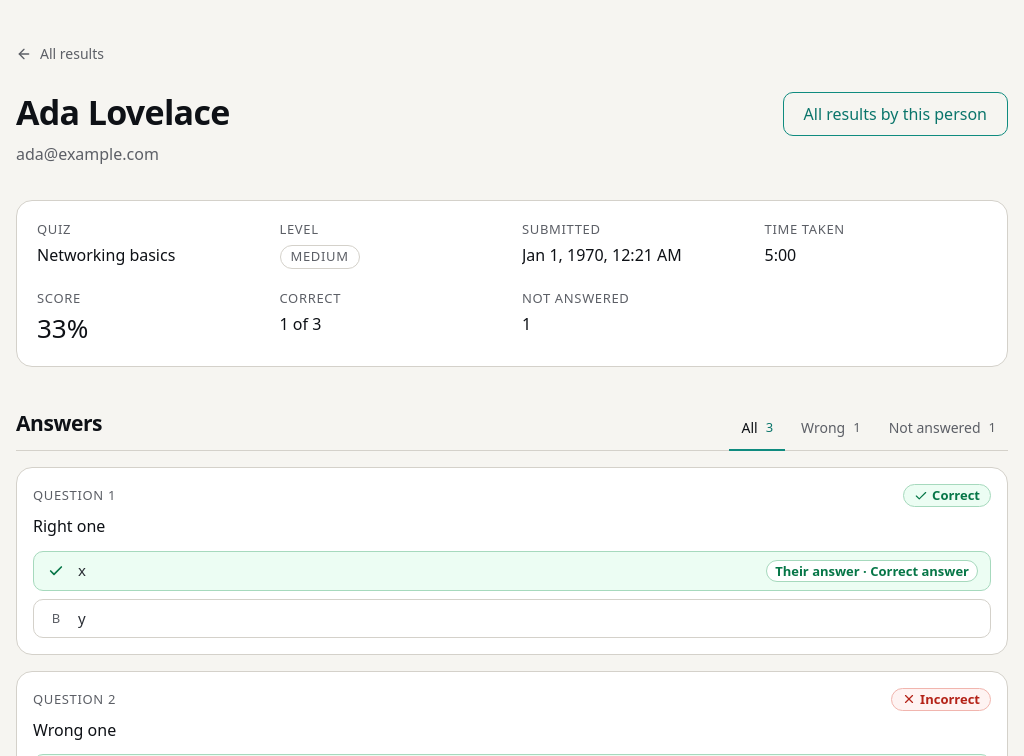
Test: Admin attempt detail › filters to the wrong and the skipped questions
Click the button "Wrong 1" at (831, 429), box [789,407,873,451]
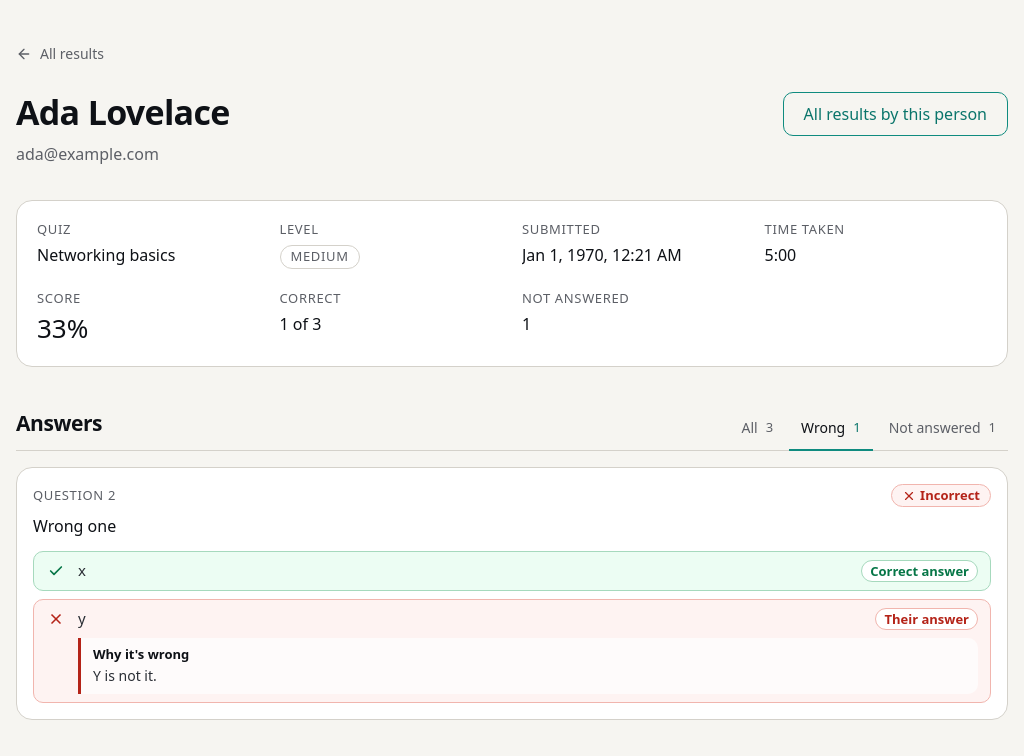
Expected: the text "Wrong one" is shown, [33,515,116,537]
Now the text "Right one" is gone
Click the button "Not answered 1" at (942, 429), box [877,407,1008,451]
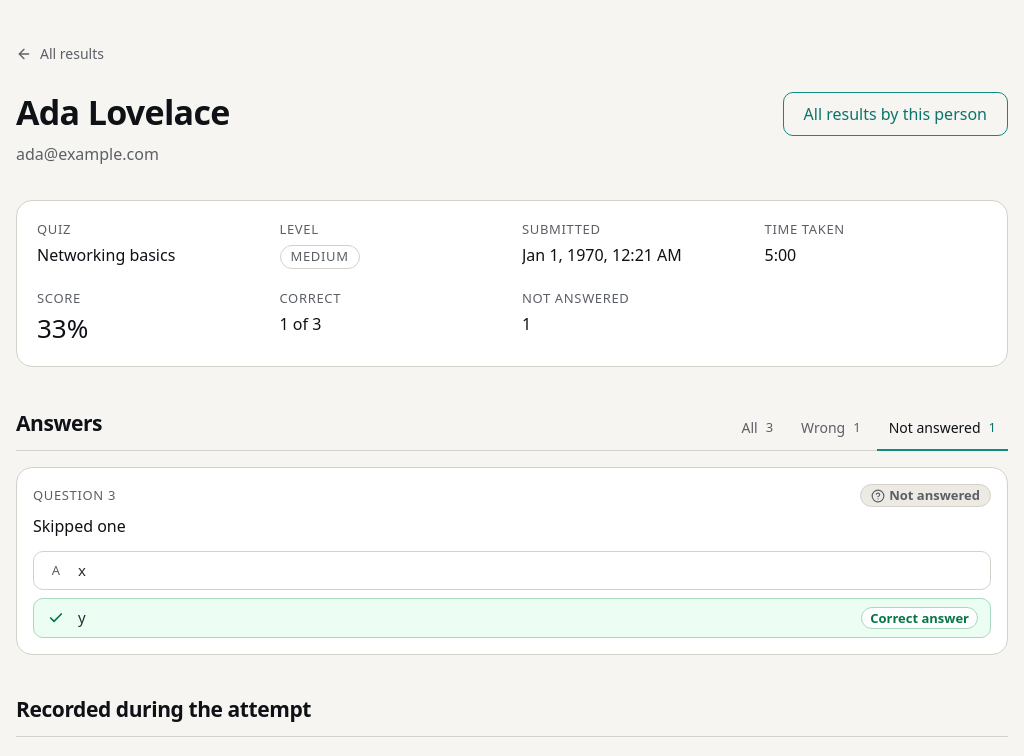
Now the text "Skipped one" is shown, box [33,515,126,537]
Now the text "Wrong one" is gone
